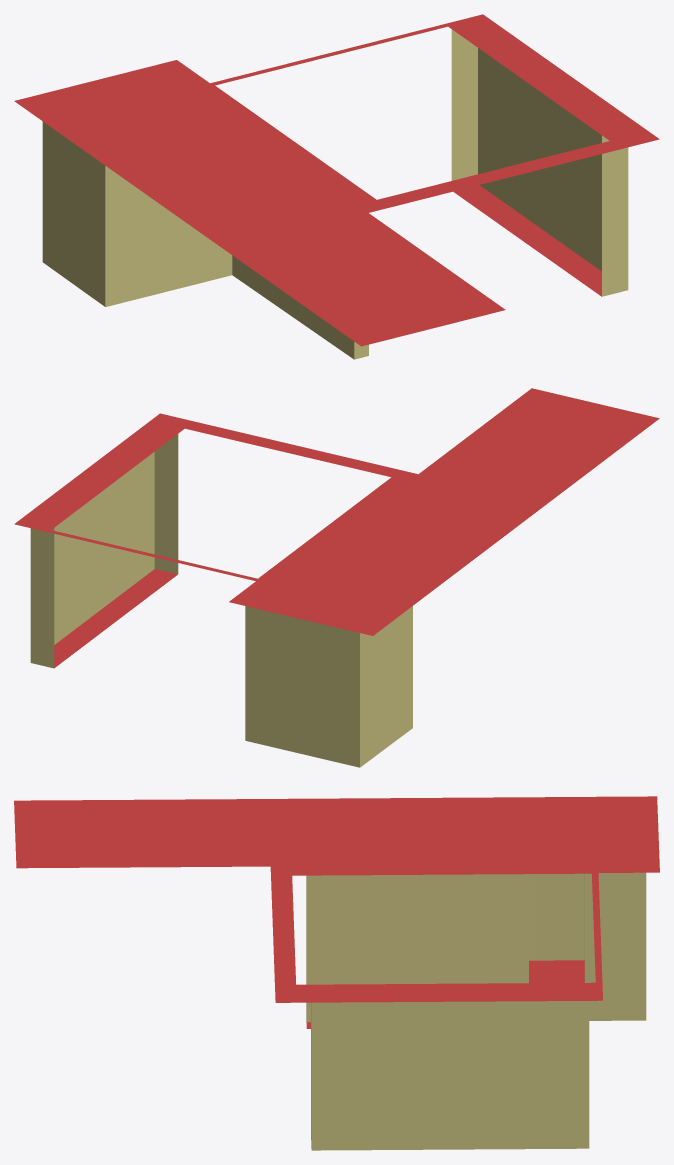
3 renders of one model, top to bottom at view 1: azimuth 30°, elevation 25°; view 2: azimuth 150°, elevation 25°; view 3: azimuth 270°, elevation 25°, orthographic. The views are drawn at different scales.
Size of the model in its own units: 18.11 by 23.94 by 6.28.
